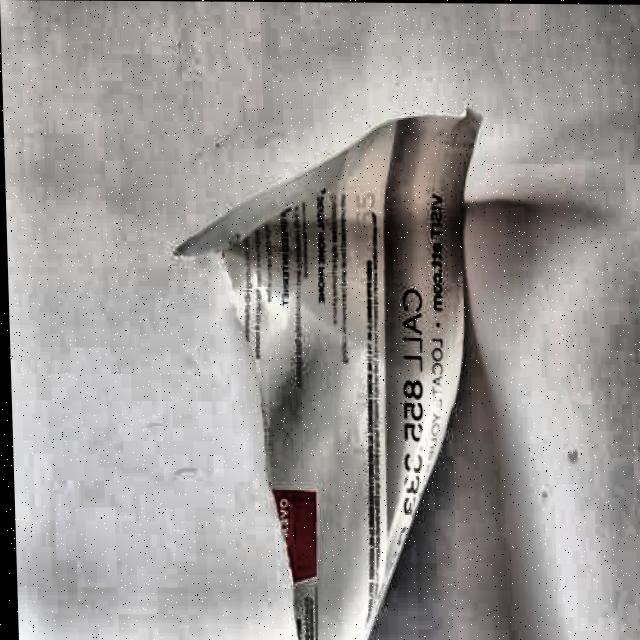paper: (166, 107, 503, 640)
